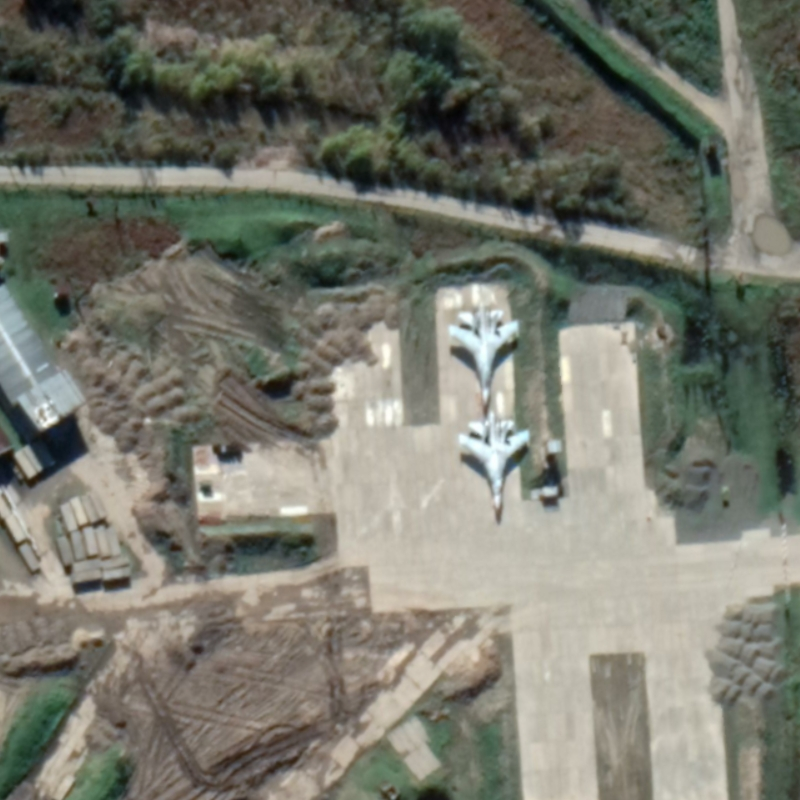A1: (445, 300, 523, 411), (452, 409, 532, 515)
